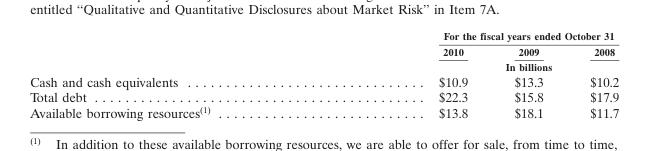table: (29, 29, 618, 120)
table column: (29, 29, 323, 120), (323, 29, 490, 120), (490, 29, 565, 120), (565, 29, 618, 120)
table column header: (29, 29, 618, 73)
table row: (29, 88, 618, 104), (29, 104, 618, 120), (29, 43, 618, 58), (29, 58, 618, 73), (29, 73, 618, 88), (29, 29, 618, 43)
table spanning cell: (323, 58, 618, 73), (323, 29, 618, 43)
